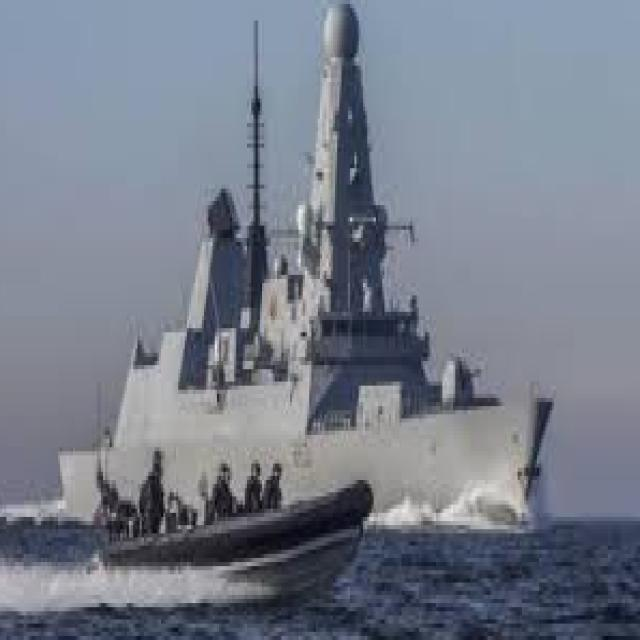navalvessels: (49, 0, 548, 554)
